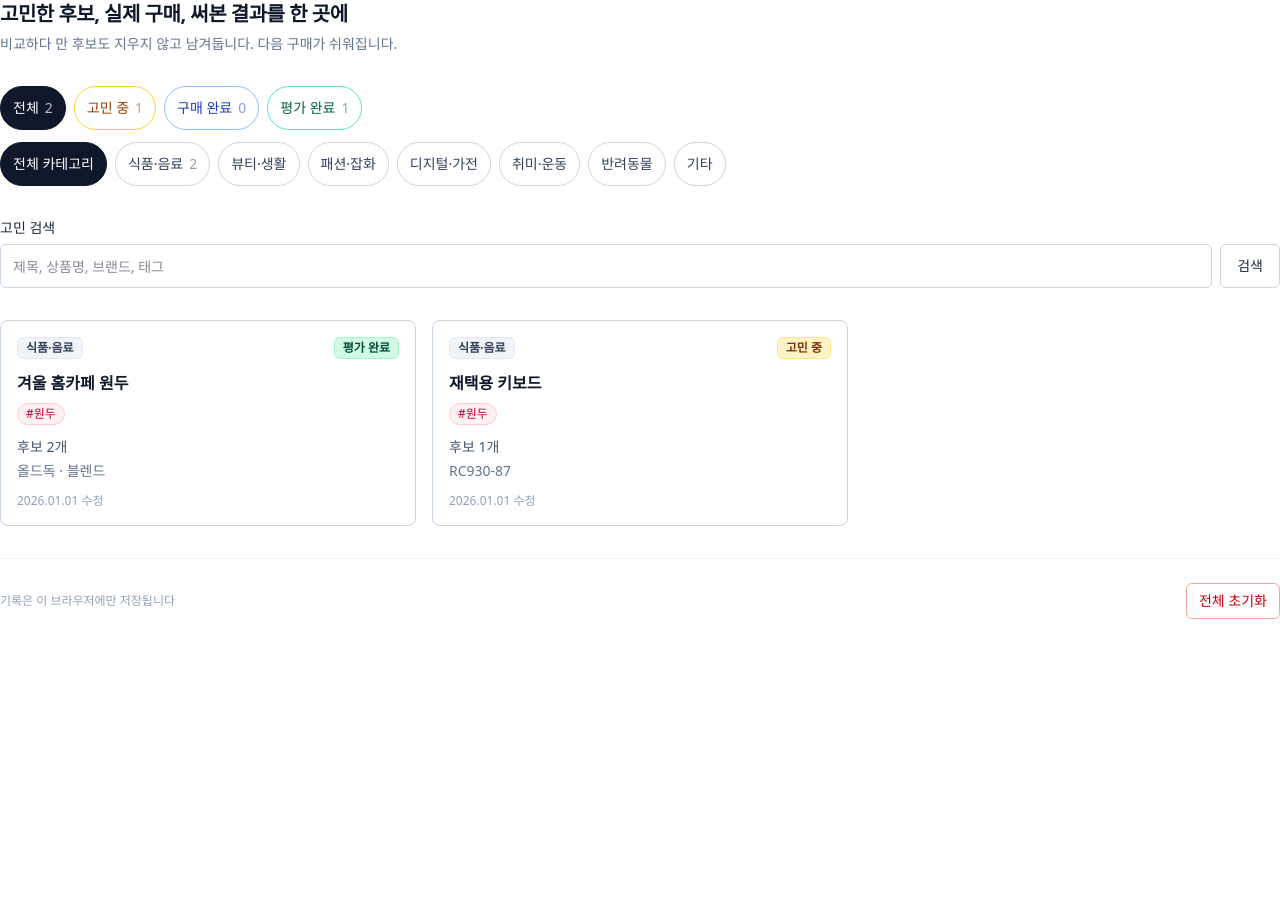
Test: 블록 52 — 전체 초기화 › 브라우저 기본 창이 아니라 확인 다이얼로그가 뜬다
Step 1. Click the button "전체 초기화" → (1233, 601), box [1186, 583, 1279, 619]
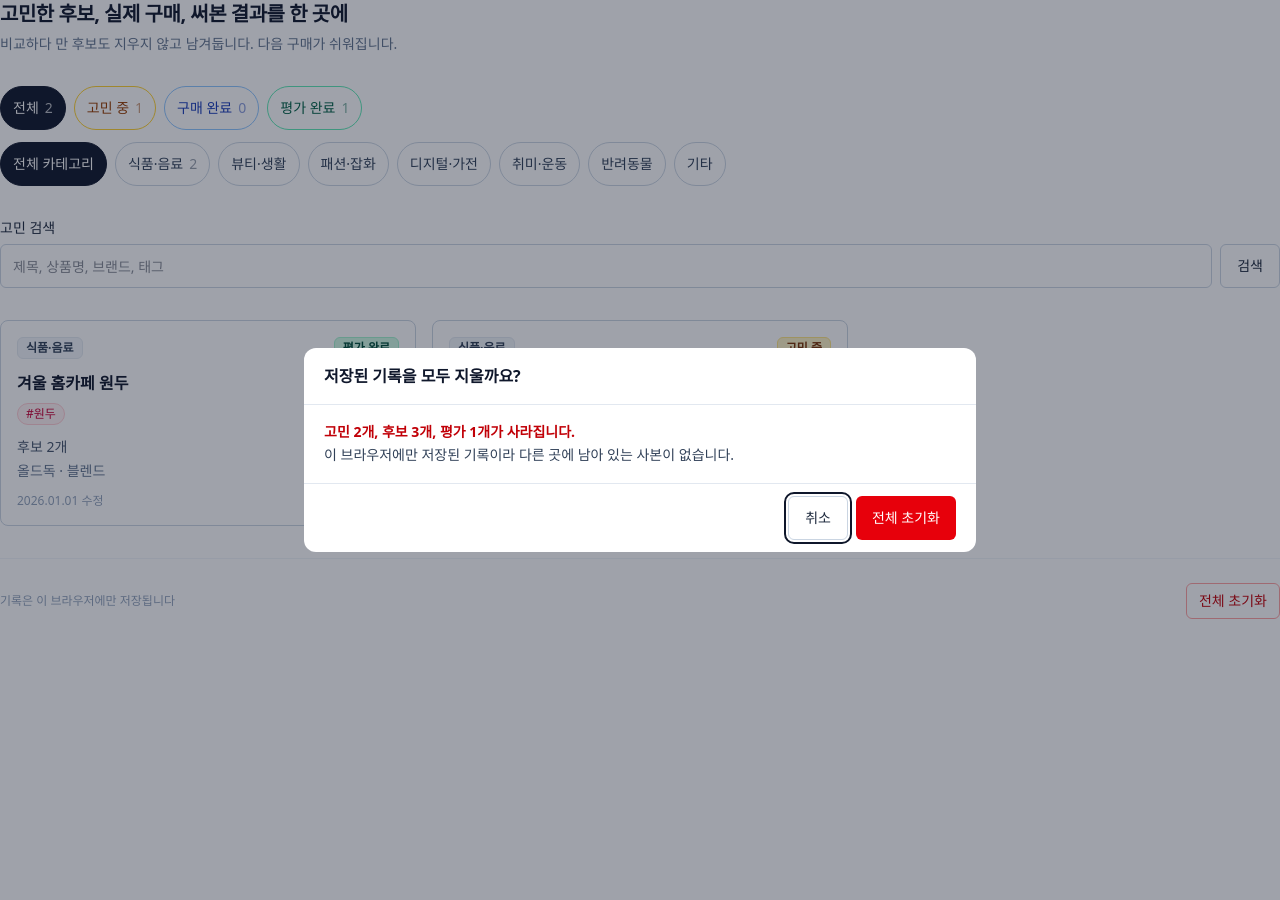
Result: the dialog is shown at [304, 348, 976, 552]
